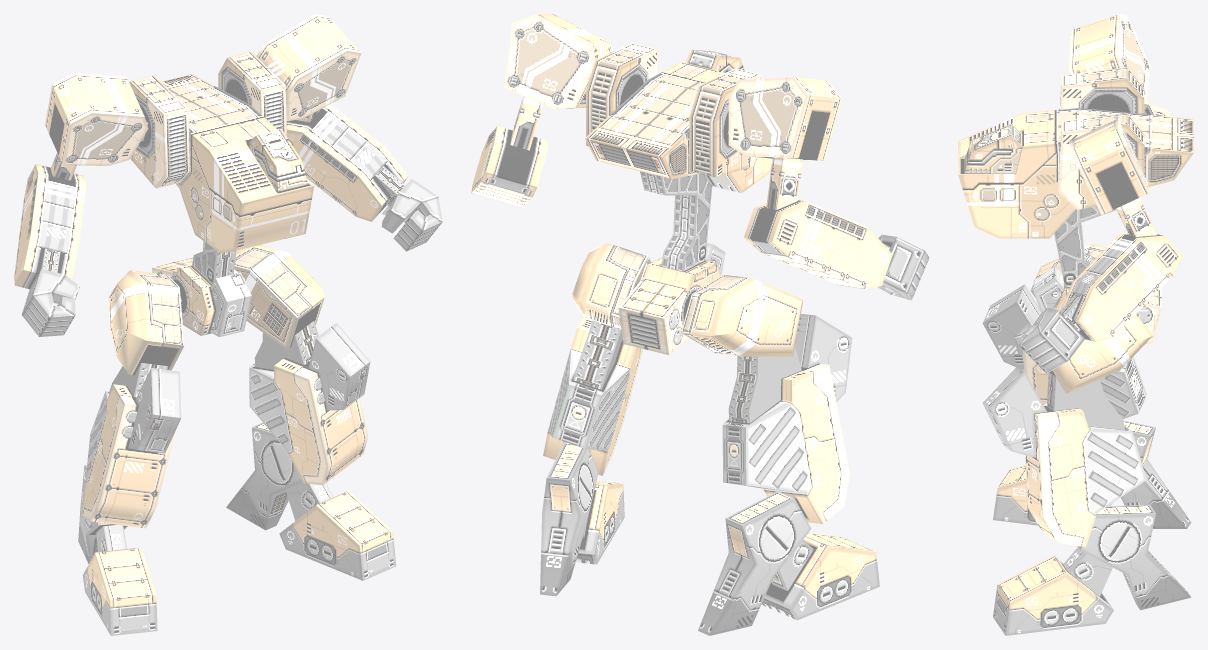
The model's file is meka.glb.
The picture shows the model from 3 angles, left to right: view 1: azimuth 30°, elevation 25°; view 2: azimuth 150°, elevation 25°; view 3: azimuth 270°, elevation 25°; orthographic projection. The views are drawn at different scales.
Visible parts, largest first — view 1: body01; view 2: body01; view 3: body01.
Boxes of the visible parts, bbox=[...] form: body01: bbox=[14, 14, 442, 635]; body01: bbox=[471, 14, 929, 635]; body01: bbox=[958, 14, 1193, 635].
Size of the model in its own units: 0.6061 by 0.7352 by 0.3155.
Materials: 1 (1 with a texture image).
